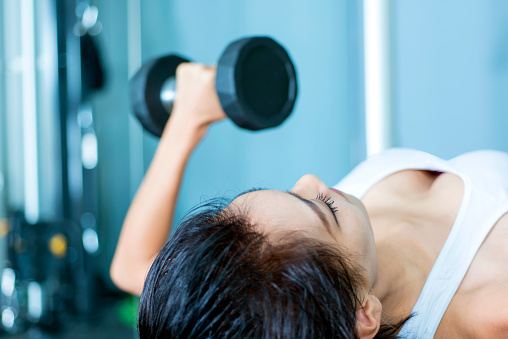deitado: (101, 173, 507, 339)
